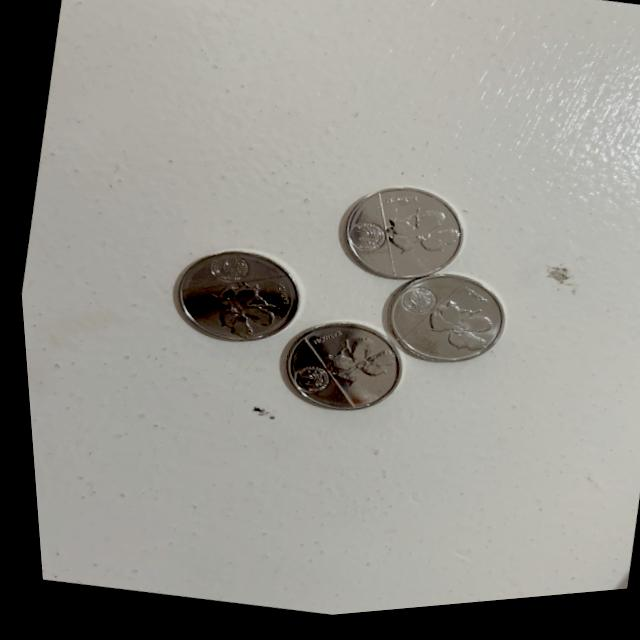25Cent_New_Back: (315, 327, 397, 401), (374, 198, 448, 270), (421, 296, 493, 366), (202, 277, 273, 342)
